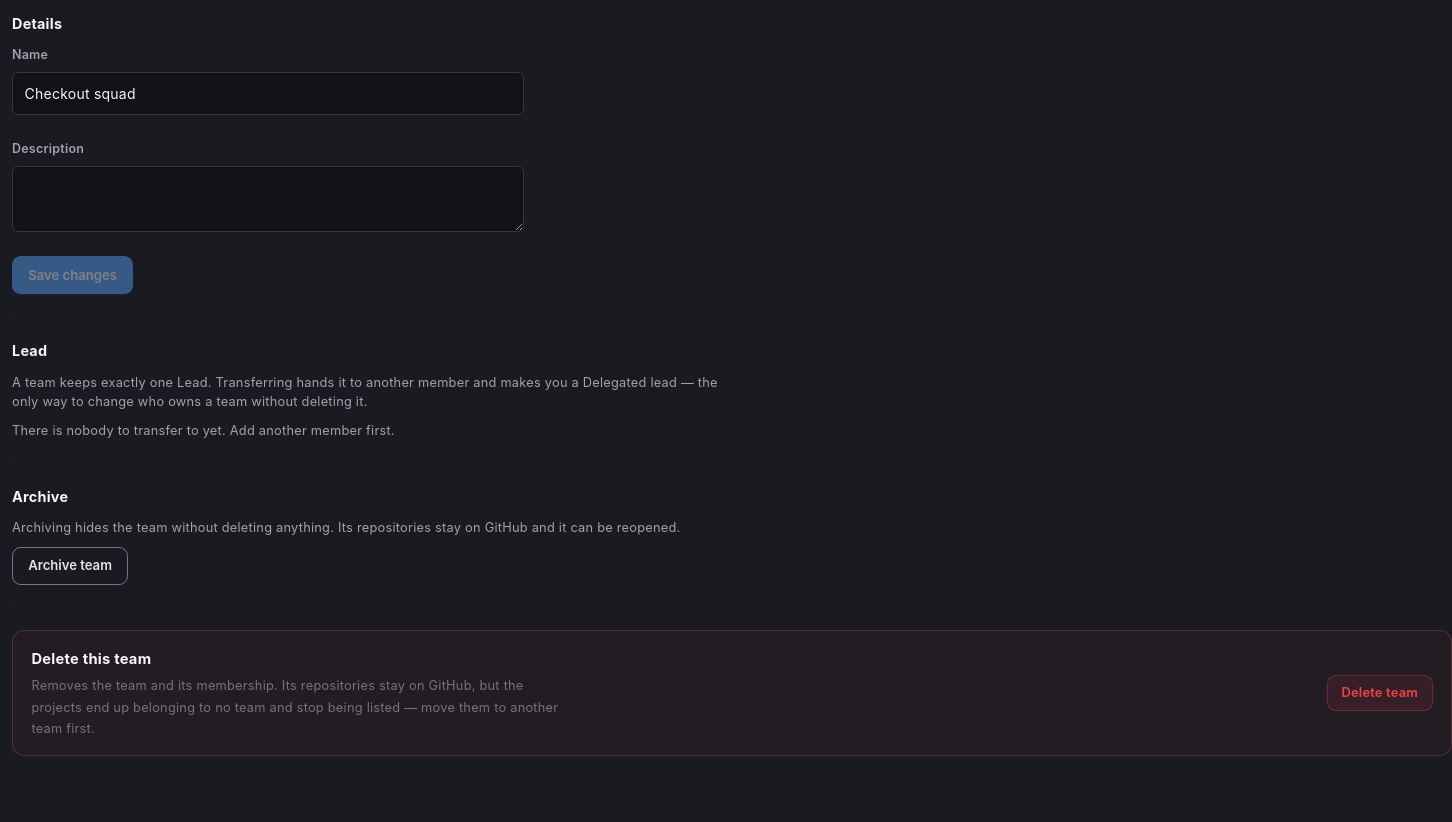
Test: SelectedTeamSettings (the Settings page's Team tab) › archives the team and re-reads it
Click the button "Archive team" at [70, 566], box [12,547,128,585]
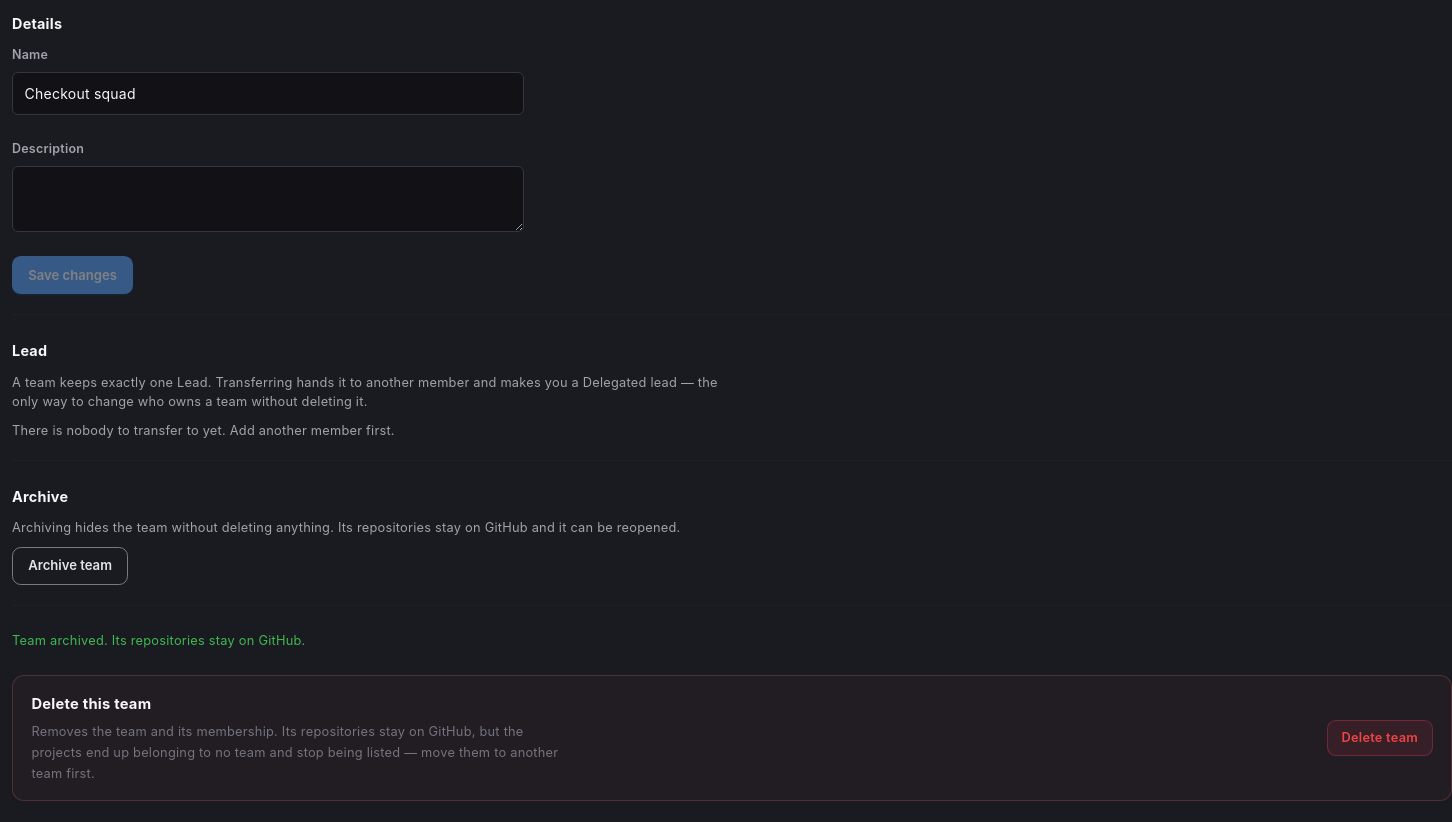
Result: the text "Team archived." is shown at [12,633,306,648]
